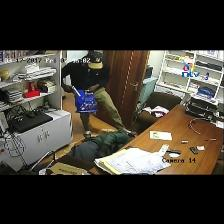person: (62, 52, 130, 132), (67, 131, 136, 162)
